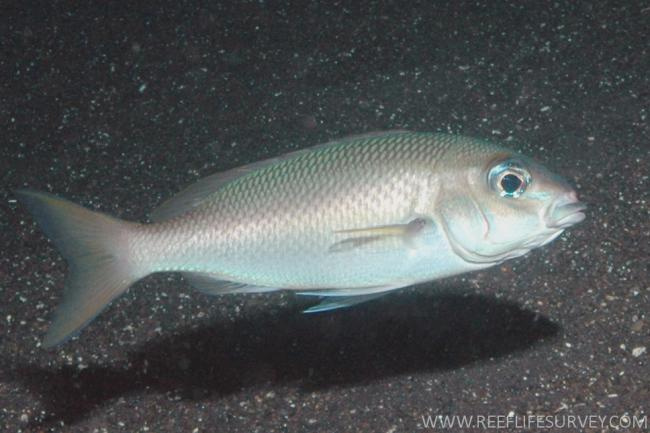fish: (10, 130, 586, 353)
